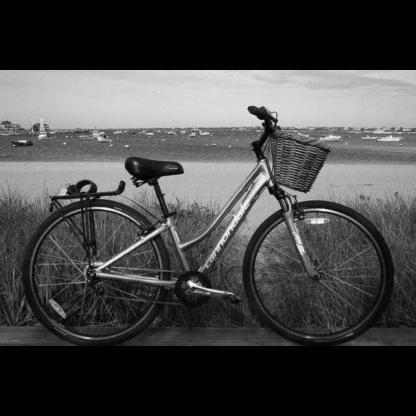Bicycle: (4, 93, 411, 348)
